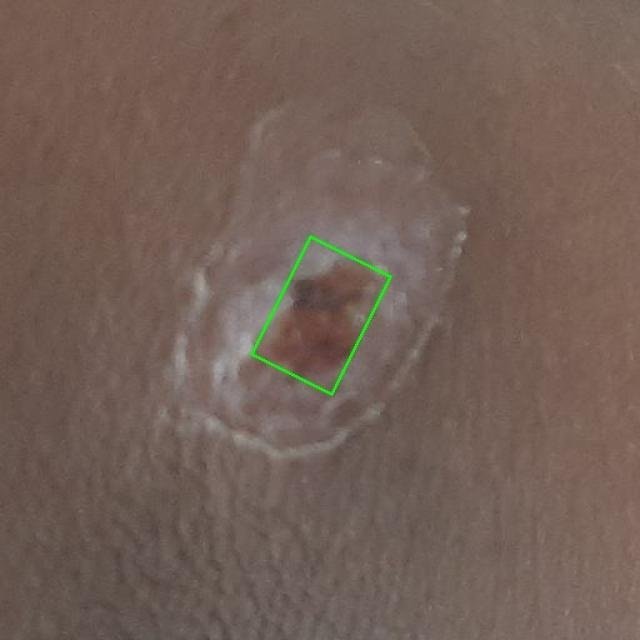Eczema: (252, 236, 390, 394)
